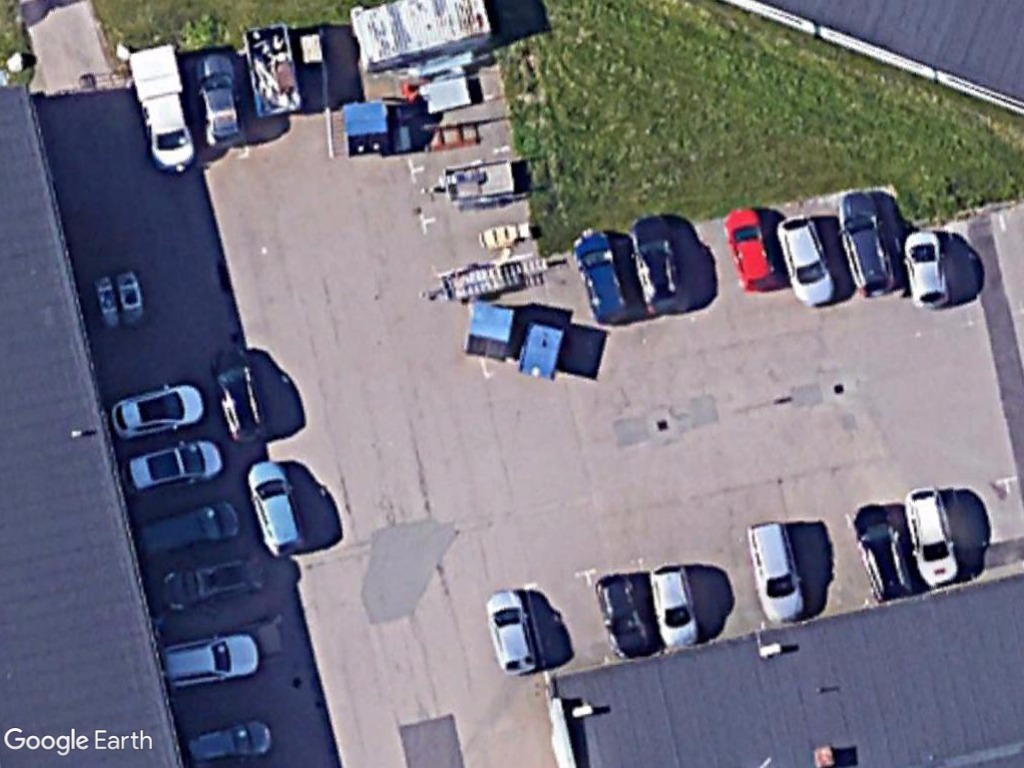car: (739, 514, 809, 629), (120, 433, 231, 497), (840, 186, 901, 301), (851, 498, 917, 604), (902, 482, 965, 590), (568, 226, 633, 330), (160, 626, 265, 690), (245, 456, 309, 560), (776, 210, 842, 310), (627, 212, 687, 316), (592, 567, 655, 662), (484, 587, 543, 681), (649, 555, 702, 653), (726, 202, 778, 295), (901, 224, 954, 313)
